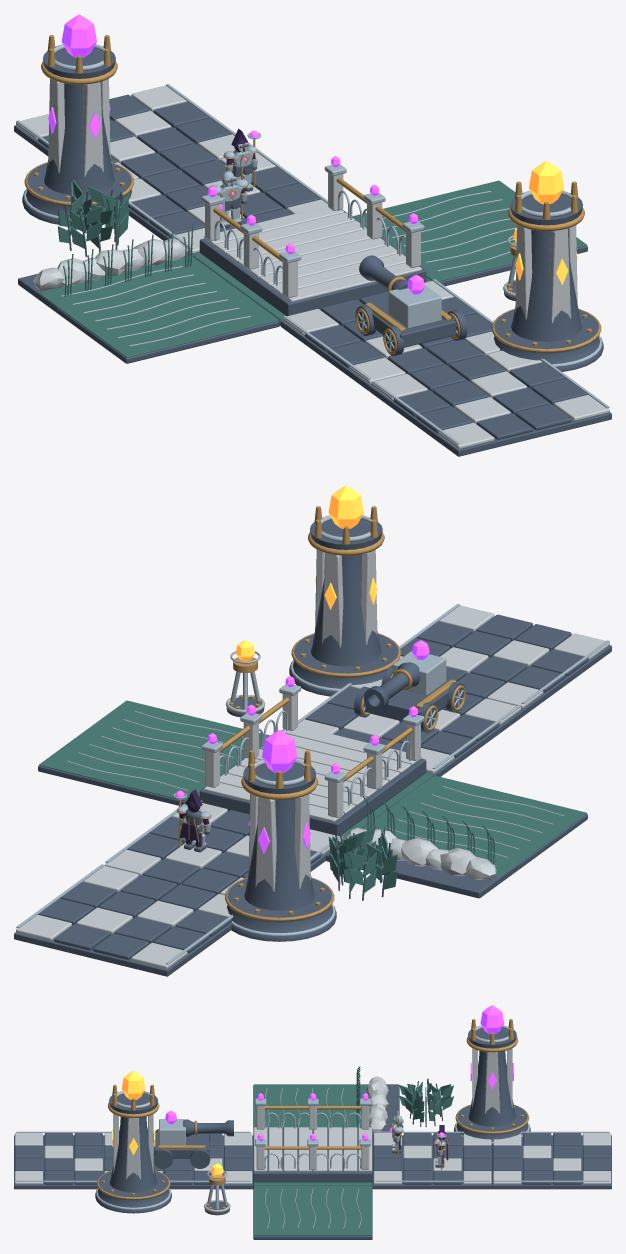
Rendered from moonsteel-convergence-river-lane-clash-eabf4029__18219.glb.
3 views of the same model, one above another, from view 1: azimuth 30°, elevation 25°; view 2: azimuth 150°, elevation 25°; view 3: azimuth 270°, elevation 25° (orthographic). The views are drawn at different scales.
Visible parts, largest first — view 1: 004-jade-river-surface/1, 007-moonstone-bridge/1, 003-runestone-lane/0, 006-jade-river-surface/1, 009-solar-sentinel/0, 008-lunar-sentinel/0, 001-runestone-lane/0, 002-runestone-lane/0, 000-runestone-lane/0, 003-runestone-lane/1, 000-runestone-lane/1, 013-reed-riverbank/1 (+25 smaller); view 2: 006-jade-river-surface/1, 000-runestone-lane/0, 004-jade-river-surface/1, 007-moonstone-bridge/1, 008-lunar-sentinel/0, 003-runestone-lane/0, 009-solar-sentinel/0, 001-runestone-lane/0, 000-runestone-lane/1, 002-runestone-lane/0, 003-runestone-lane/1, 012-siege-crawler/0 (+24 smaller); view 3: 006-jade-river-surface/1, 007-moonstone-bridge/1, 000-runestone-lane/0, 001-runestone-lane/0, 009-solar-sentinel/0, 003-runestone-lane/0, 004-jade-river-surface/1, 008-lunar-sentinel/0, 002-runestone-lane/0, 000-runestone-lane/1, 001-runestone-lane/1, 007-moonstone-bridge/0 (+23 smaller).
Part boxes in pixels (bbox=[...]): 004-jade-river-surface/1: bbox=[39, 256, 278, 357]; 007-moonstone-bridge/1: bbox=[204, 173, 421, 302]; 003-runestone-lane/0: bbox=[370, 355, 611, 456]; 006-jade-river-surface/1: bbox=[352, 180, 586, 281]; 009-solar-sentinel/0: bbox=[494, 193, 603, 371]; 008-lunar-sentinel/0: bbox=[22, 46, 132, 224]; 001-runestone-lane/0: bbox=[128, 160, 320, 256]; 002-runestone-lane/0: bbox=[281, 291, 492, 391]; 000-runestone-lane/0: bbox=[14, 94, 231, 180]; 003-runestone-lane/1: bbox=[371, 350, 609, 449]; 000-runestone-lane/1: bbox=[16, 85, 235, 179]; 013-reed-riverbank/1: bbox=[33, 238, 188, 290]; 006-jade-river-surface/1: bbox=[39, 700, 269, 801]; 000-runestone-lane/0: bbox=[14, 875, 231, 976]; 004-jade-river-surface/1: bbox=[362, 775, 586, 877]; 007-moonstone-bridge/1: bbox=[204, 693, 421, 822]; 008-lunar-sentinel/0: bbox=[227, 762, 336, 941]; 003-runestone-lane/0: bbox=[400, 614, 611, 715]; 009-solar-sentinel/0: bbox=[289, 517, 398, 696]; 001-runestone-lane/0: bbox=[127, 810, 330, 895]; 000-runestone-lane/1: bbox=[16, 866, 230, 969]; 002-runestone-lane/0: bbox=[305, 687, 522, 776]; 003-runestone-lane/1: bbox=[399, 605, 609, 708]; 012-siege-crawler/0: bbox=[354, 662, 465, 732]; 006-jade-river-surface/1: bbox=[253, 1185, 372, 1235]; 007-moonstone-bridge/1: bbox=[253, 1106, 372, 1171]; 000-runestone-lane/0: bbox=[492, 1133, 611, 1189]; 001-runestone-lane/0: bbox=[372, 1133, 492, 1189]; 009-solar-sentinel/0: bbox=[95, 1092, 171, 1213]; 003-runestone-lane/0: bbox=[14, 1133, 113, 1189]; 004-jade-river-surface/1: bbox=[253, 1084, 368, 1127]; 008-lunar-sentinel/0: bbox=[454, 1028, 530, 1141]; 002-runestone-lane/0: bbox=[153, 1133, 253, 1189]; 000-runestone-lane/1: bbox=[493, 1133, 611, 1184]; 001-runestone-lane/1: bbox=[373, 1133, 491, 1184]; 007-moonstone-bridge/0: bbox=[253, 1128, 372, 1182].
Size of the model in its own units: 12 by 4.67 by 20.
